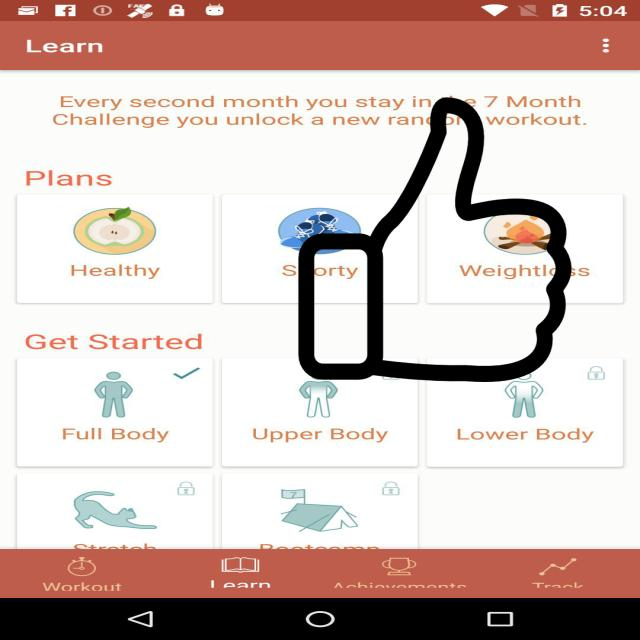privacy zuckering: (294, 97, 576, 382)
